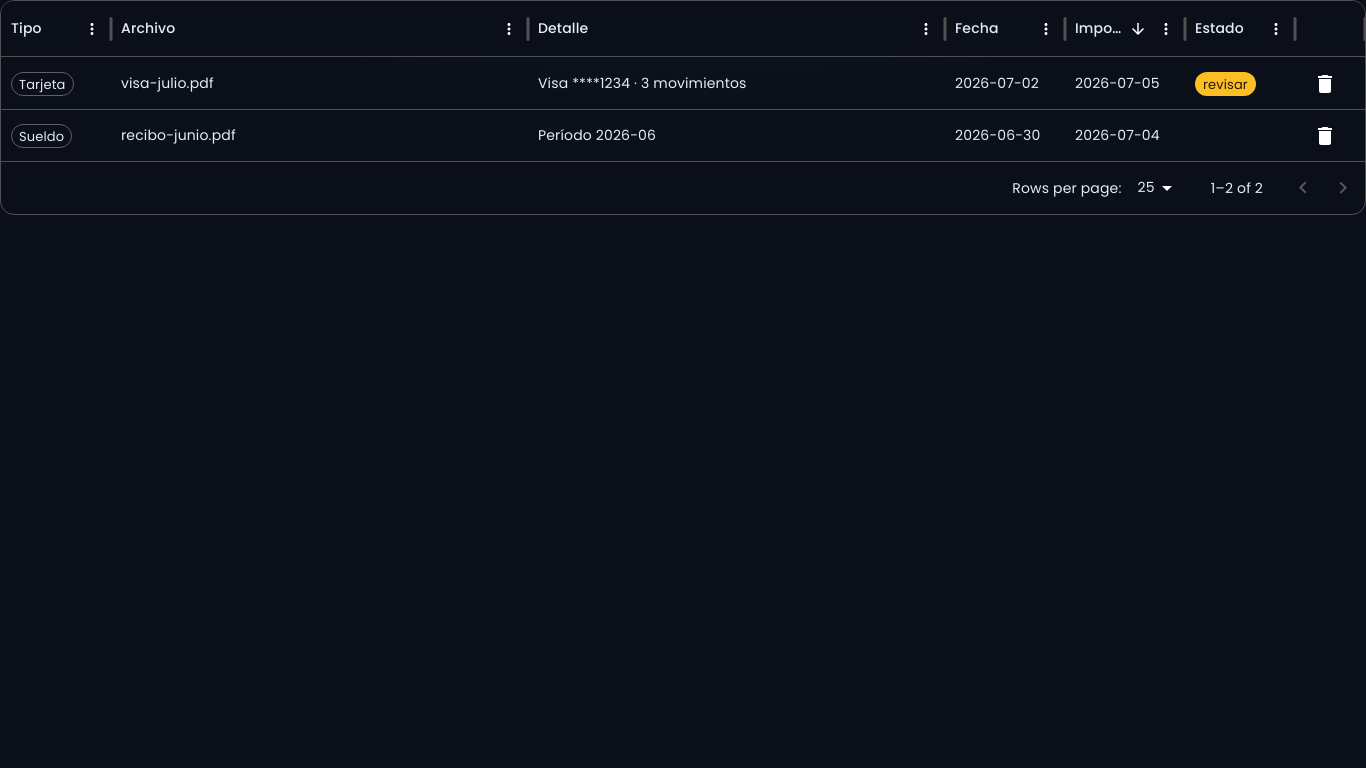
Test: ImportedFilesTable › avisa que borrar un resumen también borra sus movimientos
This screenshot has width=1366, height=768.
Click the button named "borrar visa-julio.pdf" at coordinates (1325, 84), box [1305, 64, 1345, 104]
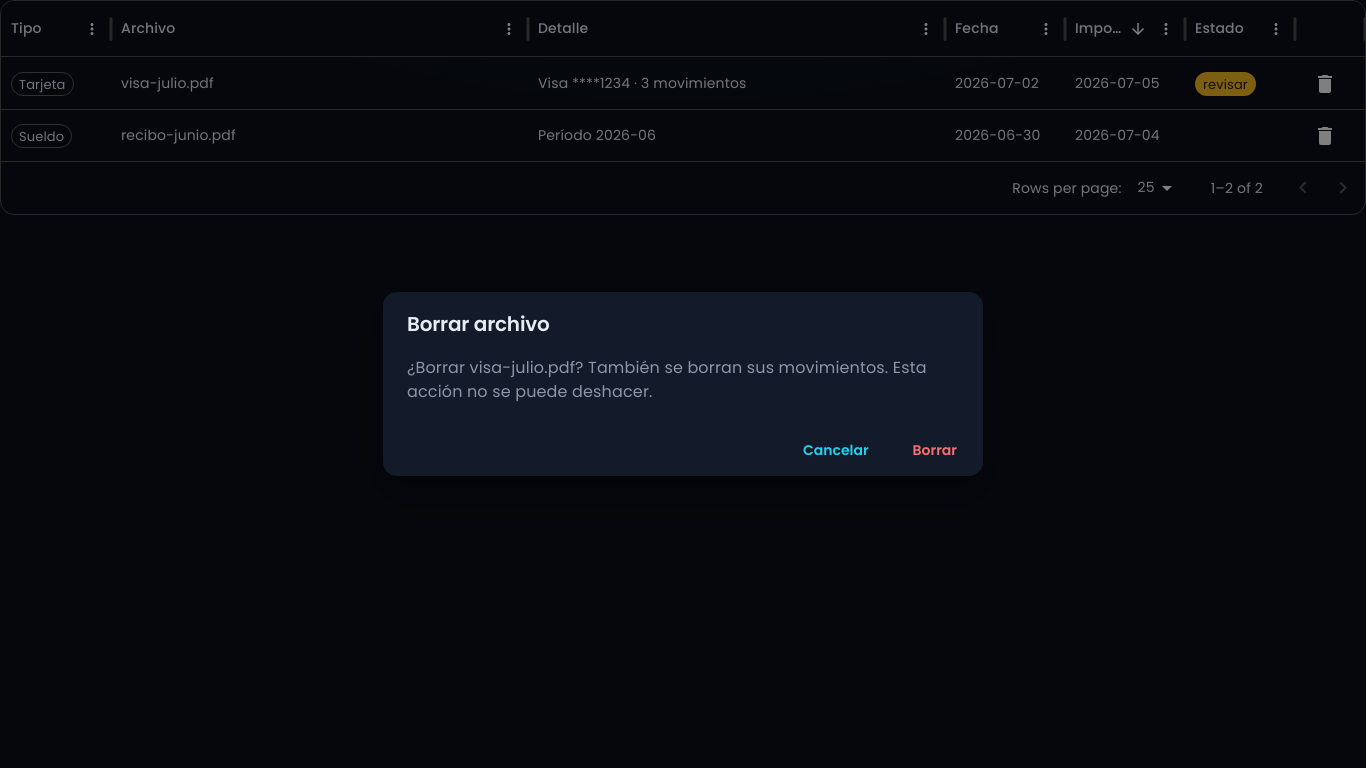
Check: the text "También se borran sus movimientos" is shown, box [407, 356, 927, 403]
